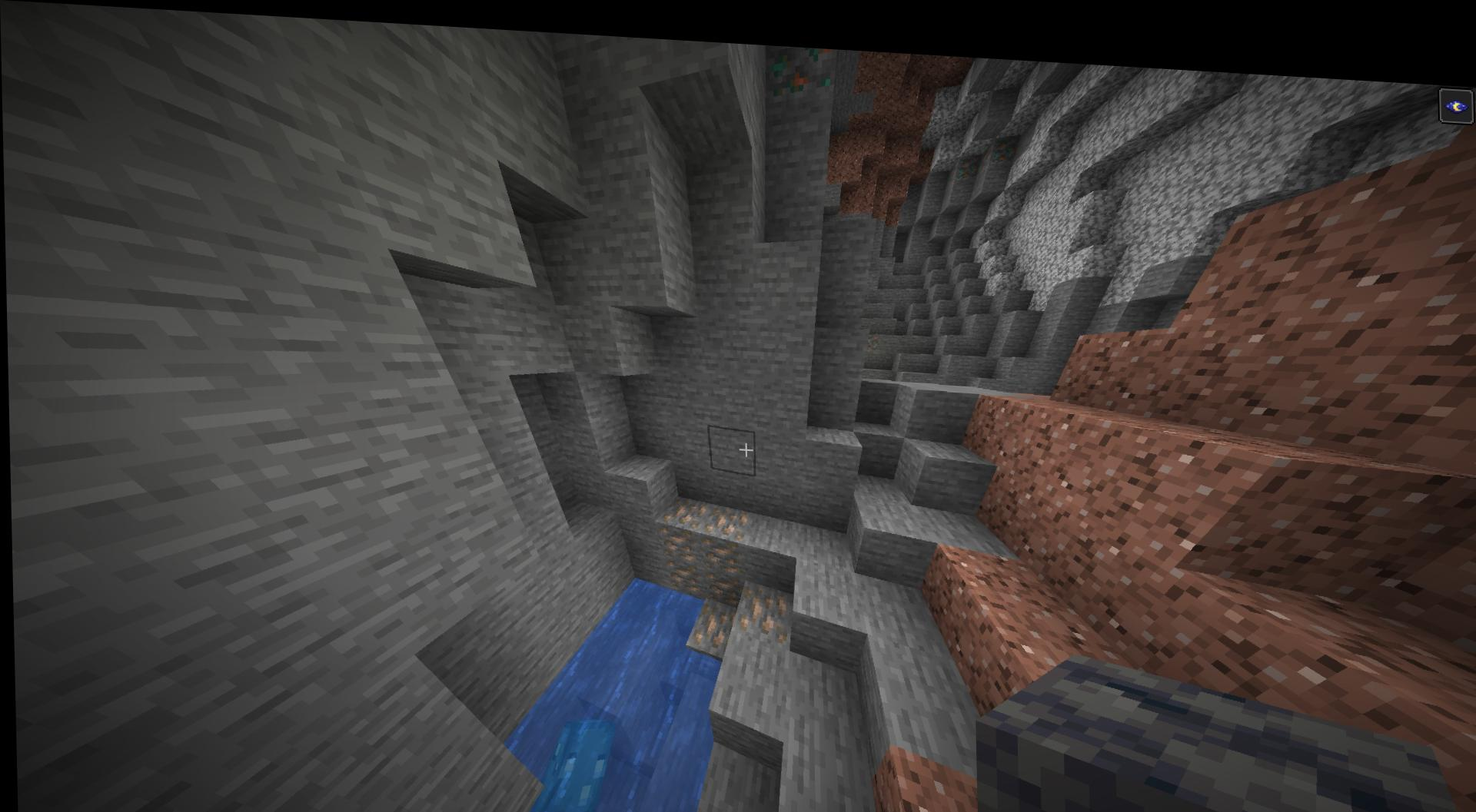iron ore: (658, 490, 744, 593), (739, 573, 792, 633), (684, 592, 734, 643)
